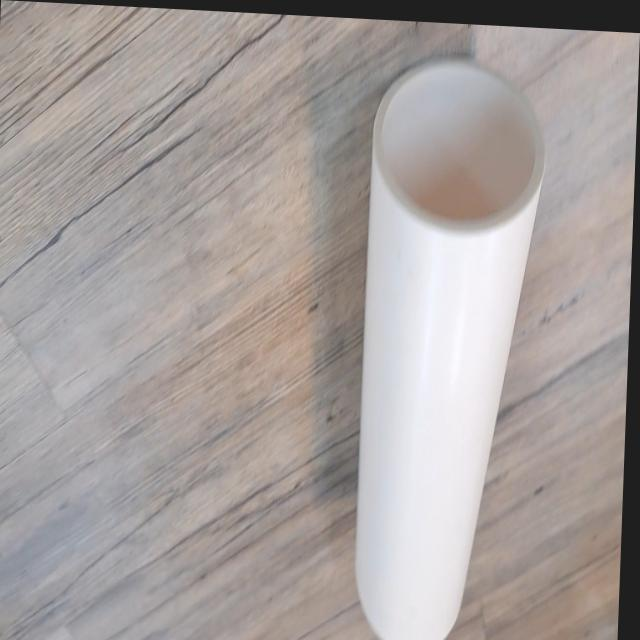CORAL: (343, 55, 555, 640)
